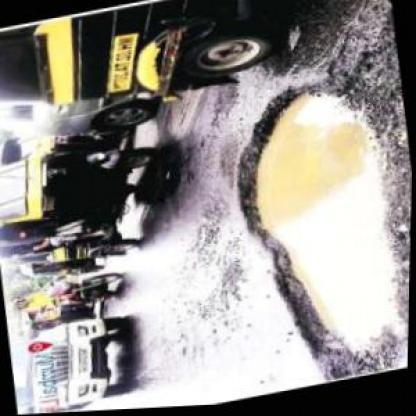pothole: (218, 67, 413, 398)
